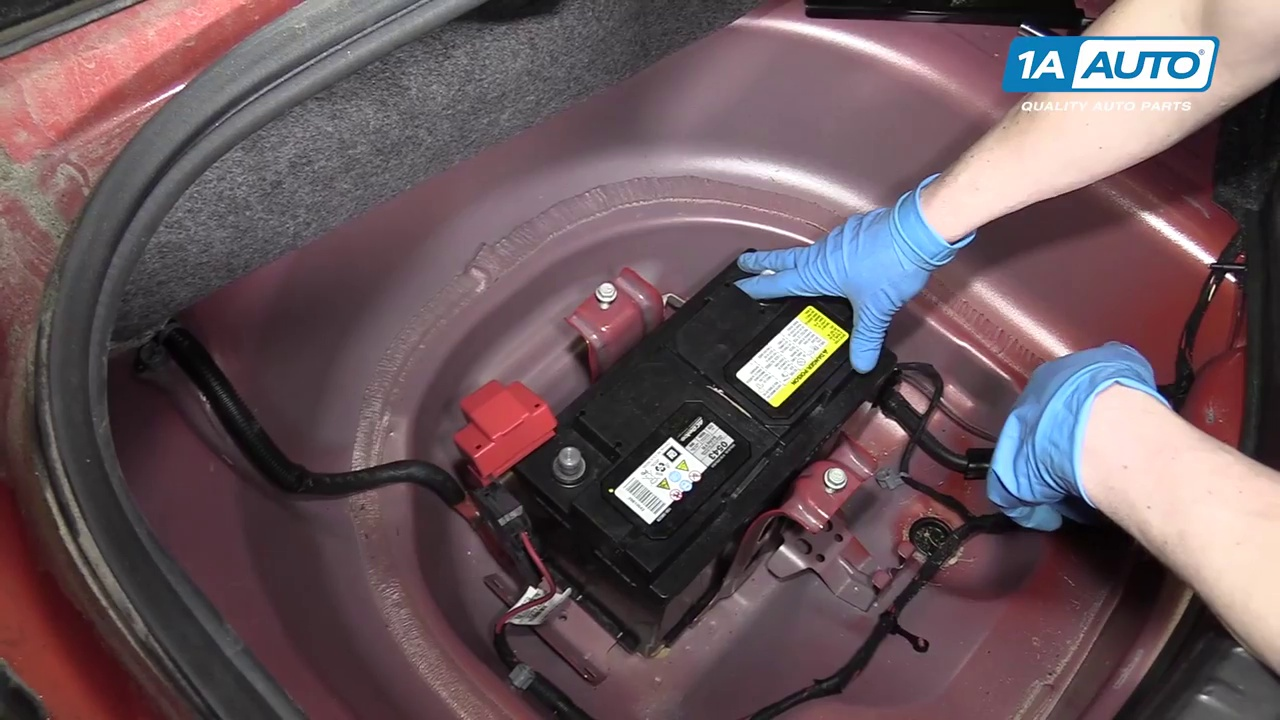battery: (520, 249, 890, 583)
pos_disconnected: (429, 384, 611, 514)
